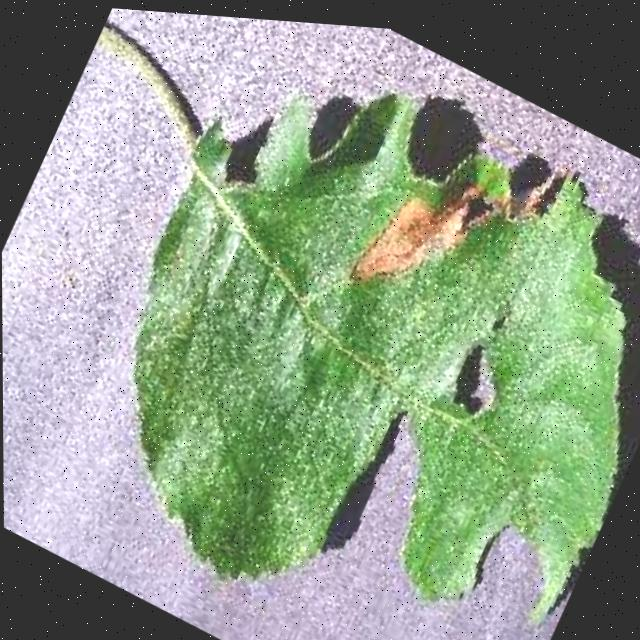black_rot: (321, 102, 558, 369)
